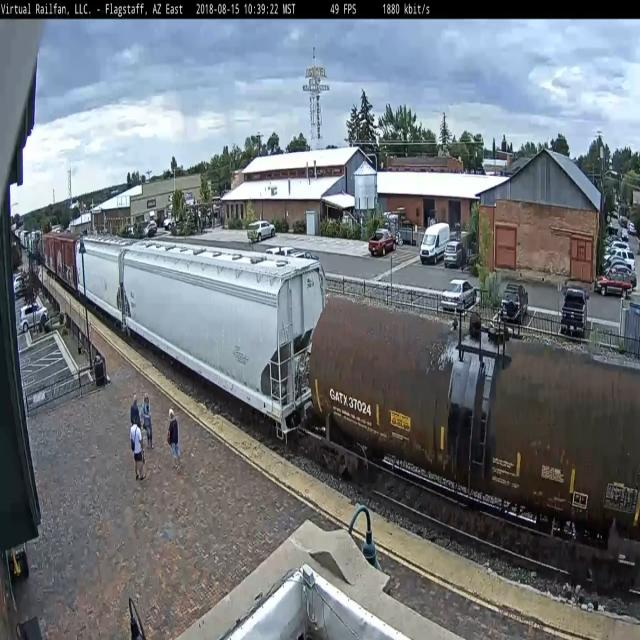hopper: (120, 231, 330, 447)
tank: (299, 283, 640, 601)
